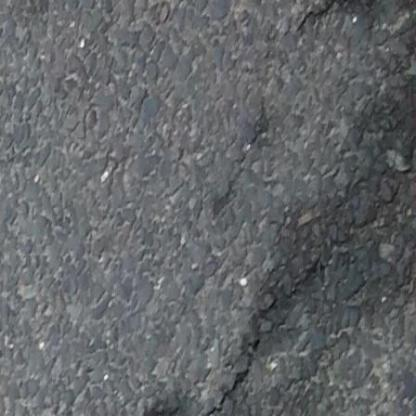Cracks: (179, 179, 416, 411), (180, 91, 308, 225), (287, 0, 409, 38)
